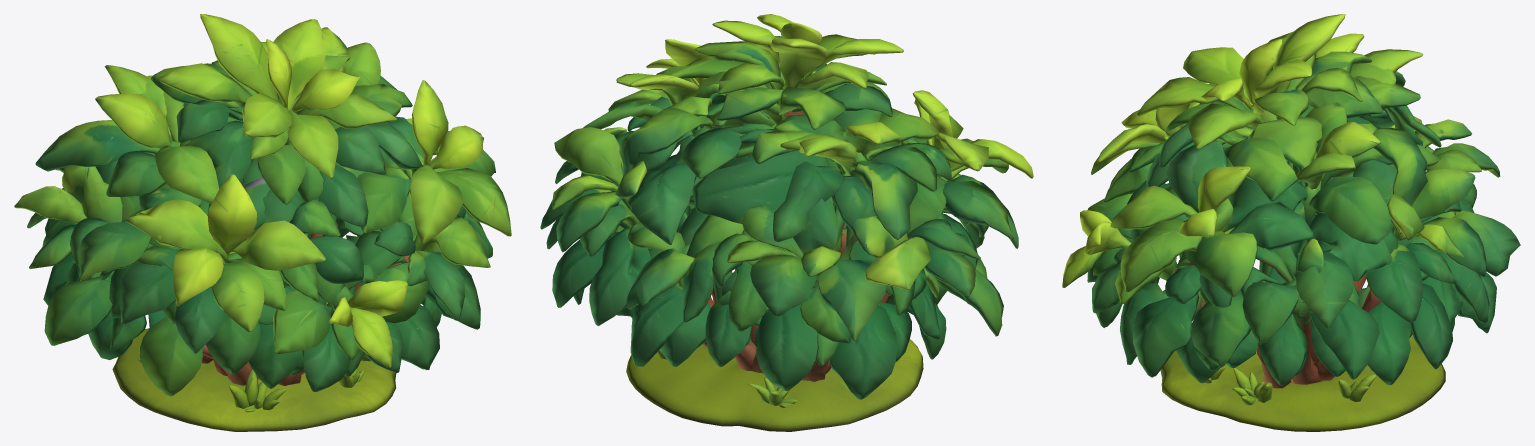
The model's file is Meshy_AI_Verdant_Glow_Bush_1022060821_texture.fbx.
The picture shows the model from 3 angles, left to right: view 1: azimuth 30°, elevation 25°; view 2: azimuth 150°, elevation 25°; view 3: azimuth 270°, elevation 25°; orthographic projection. The views are drawn at different scales.
Parts seen in each view (by area): view 1: Mesh_0; view 2: Mesh_0; view 3: Mesh_0.
Part boxes in pixels (x1,y1,x2,y2): Mesh_0: (14, 14, 511, 431); Mesh_0: (540, 14, 1033, 431); Mesh_0: (1062, 14, 1520, 431).
Bounding box in the file's own units: 95.31 × 74.95 × 91.36.
1 material, 1 textured.
